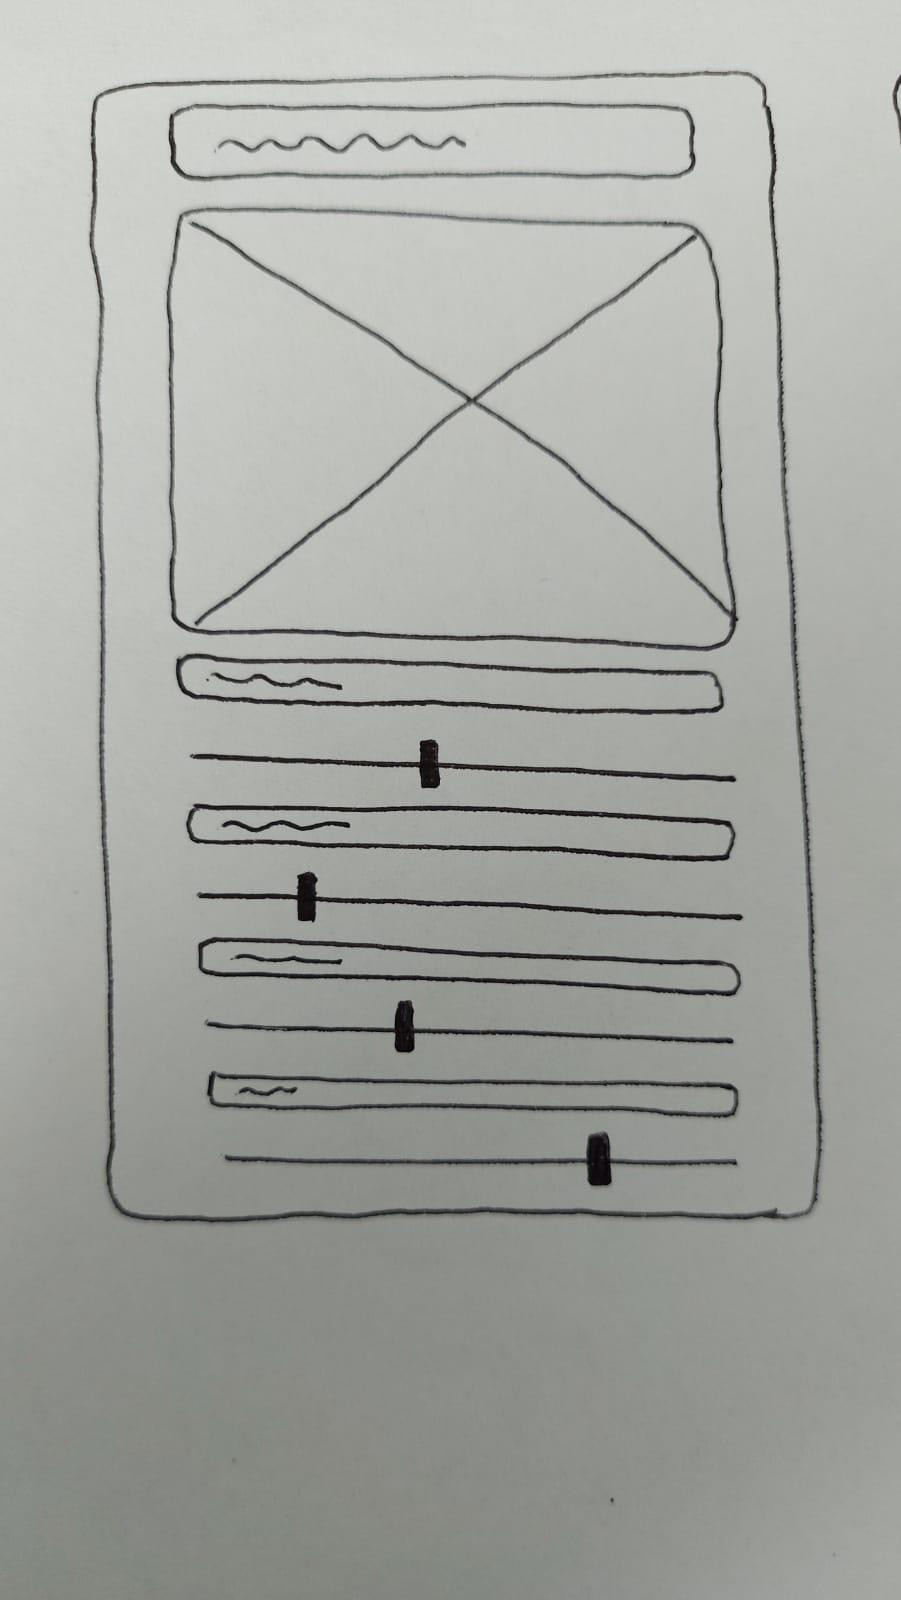Button: (166, 102, 696, 181)
Image: (167, 205, 737, 652)
Screen: (89, 71, 824, 1222)
Slider: (205, 1000, 735, 1053), (223, 1132, 738, 1186), (197, 871, 743, 922), (190, 741, 735, 790)
TextBox: (176, 654, 723, 715), (186, 803, 735, 862), (199, 937, 741, 996), (208, 1071, 739, 1118)
